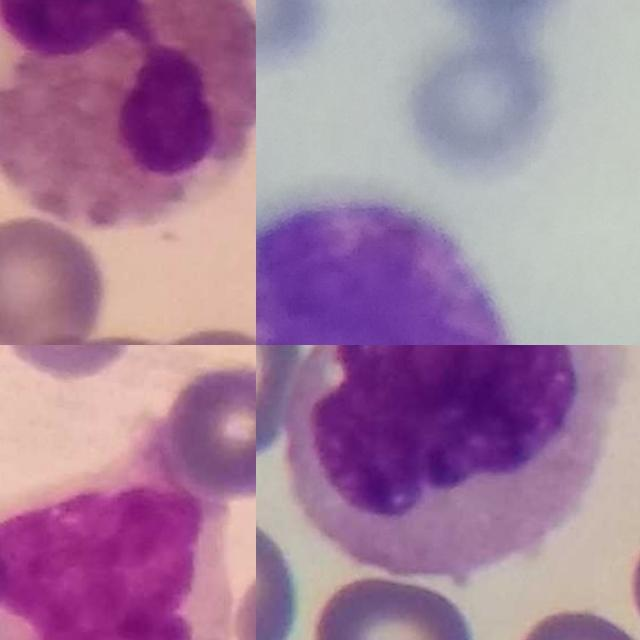Basophil: (256, 197, 522, 345)
Eosinophil: (0, 0, 256, 231)
Monocyte: (285, 345, 625, 577), (0, 442, 233, 640)
